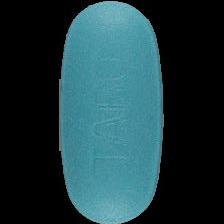63629-3198: (0, 0, 224, 224)
